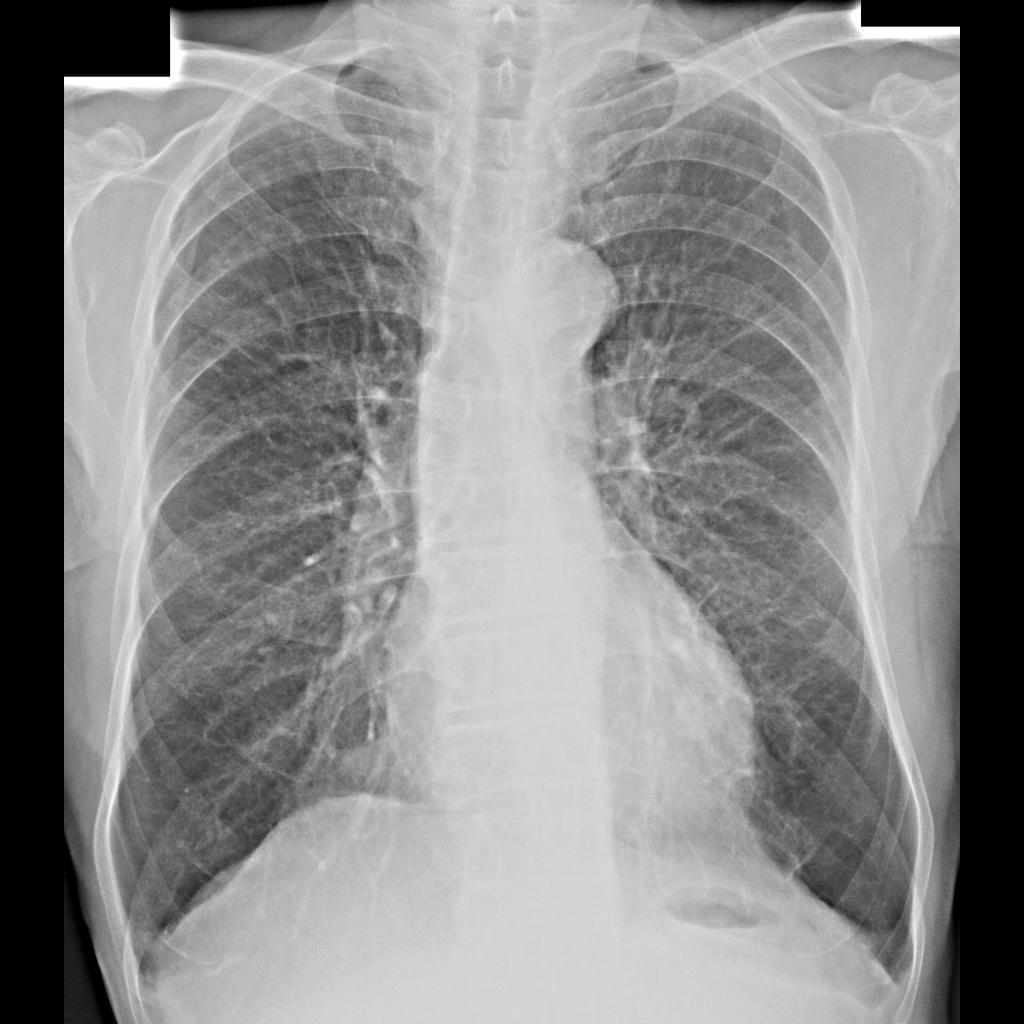Nodule: (664, 685, 717, 738)
